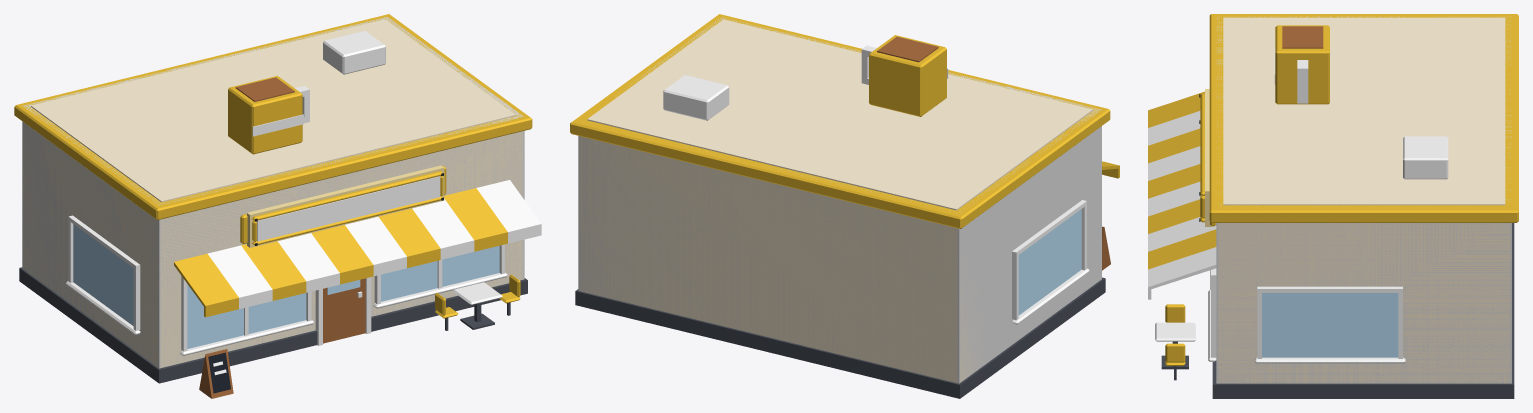
File: cafe-exterior.glb
3 views of the same model, side by side, from view 1: azimuth 30°, elevation 25°; view 2: azimuth 150°, elevation 25°; view 3: azimuth 270°, elevation 25° (orthographic). The views are drawn at different scales.
Visible parts, largest first — view 1: cafe, COL_body, sign_board, sign_frame; view 2: cafe, COL_body; view 3: cafe, COL_body, sign_frame.
Part boxes in pixels (x1=…): cafe: x1=14, y1=14, x2=541, y2=398; COL_body: x1=22, y1=17, x2=524, y2=368; sign_board: x1=256, y1=176, x2=440, y2=241; sign_frame: x1=247, y1=165, x2=444, y2=247; cafe: x1=570, y1=14, x2=1119, y2=398; COL_body: x1=578, y1=17, x2=1101, y2=383; cafe: x1=1148, y1=14, x2=1518, y2=398; COL_body: x1=1216, y1=16, x2=1511, y2=383; sign_frame: x1=1199, y1=89, x2=1211, y2=226.
Bounding box in the file's own units: 10.36 × 5.96 × 8.15.
